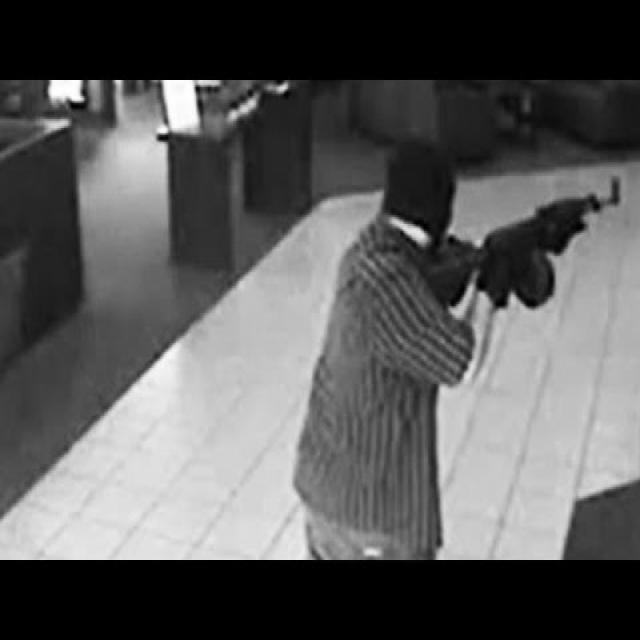gun: (427, 176, 622, 314)
